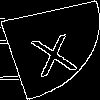X: (25, 25, 79, 78)
